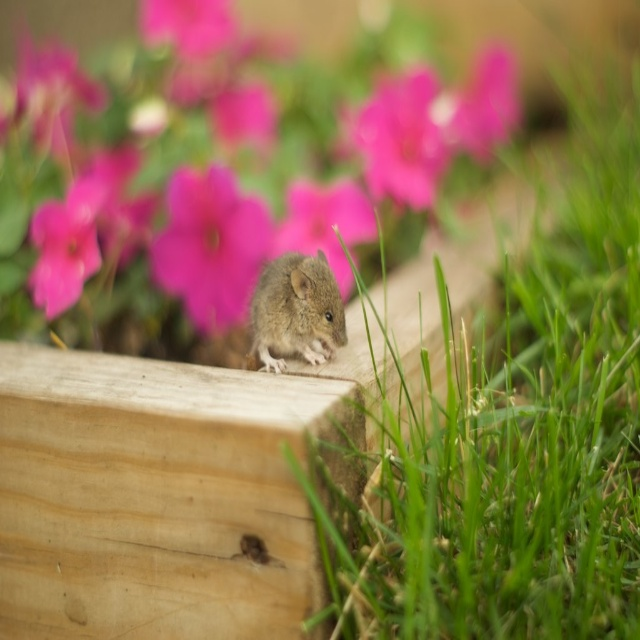Mouse: (251, 254, 346, 374)
